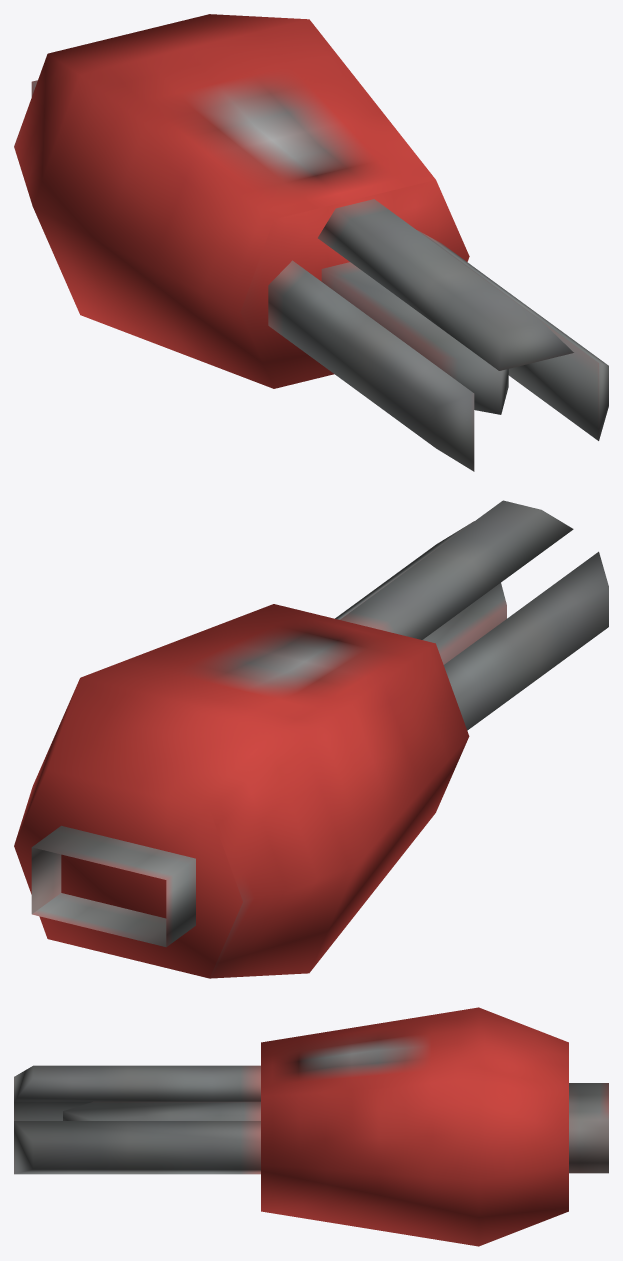
File: Tesla.FBX
3 renders of one model, top to bottom at view 1: azimuth 30°, elevation 25°; view 2: azimuth 150°, elevation 25°; view 3: azimuth 270°, elevation 25°, orthographic. The views are drawn at different scales.
Parts seen in each view (by area): view 1: Tesla; view 2: Tesla; view 3: Tesla.
Boxes of the visible parts, left/top/right/bottom form: Tesla: left=14, top=14, right=608, bottom=471; Tesla: left=14, top=500, right=608, bottom=978; Tesla: left=14, top=1007, right=608, bottom=1246.
Size of the model in its own units: 10.05 by 7.11 by 23.51.
1 material, 1 textured.
